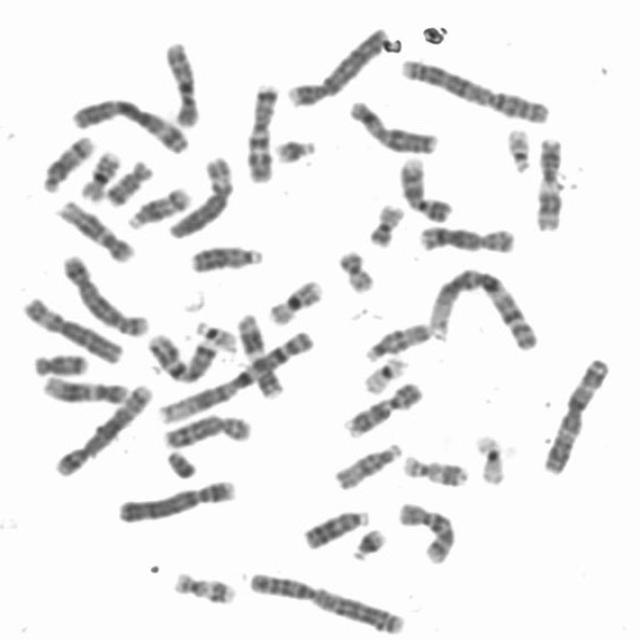A1: (154, 324, 316, 426), (424, 262, 540, 352)
A2: (243, 566, 408, 636), (397, 53, 553, 125)
A3: (538, 352, 612, 477), (66, 93, 192, 155)
B4: (284, 22, 392, 108), (114, 475, 237, 525)
B5: (50, 378, 154, 478), (57, 249, 152, 337)
C10: (392, 496, 459, 566), (160, 37, 201, 129)
C11: (232, 308, 284, 400), (530, 134, 566, 234)
C12: (52, 195, 137, 265), (36, 370, 130, 405)
C6: (19, 292, 127, 365), (165, 150, 238, 241)
C7: (243, 77, 281, 186), (144, 331, 219, 384)
C8: (160, 410, 255, 450), (415, 219, 520, 255)
C9: (340, 377, 427, 439), (395, 152, 455, 224)
D13: (299, 503, 372, 551), (184, 239, 266, 275)
D14: (36, 130, 96, 194), (122, 182, 194, 231)
D15: (328, 437, 405, 492), (360, 316, 434, 363)
E16: (263, 274, 326, 328), (76, 146, 122, 202)
E17: (397, 450, 471, 490), (168, 566, 240, 606)
E18: (104, 156, 155, 208), (28, 347, 91, 377)
F19: (358, 350, 410, 396), (471, 429, 508, 487)
F20: (333, 245, 379, 294), (364, 199, 406, 249)
G21: (271, 132, 320, 166), (348, 522, 389, 562)
G22: (190, 314, 241, 354), (502, 122, 535, 174)
X: (344, 95, 442, 156)
Y: (162, 446, 198, 481)
